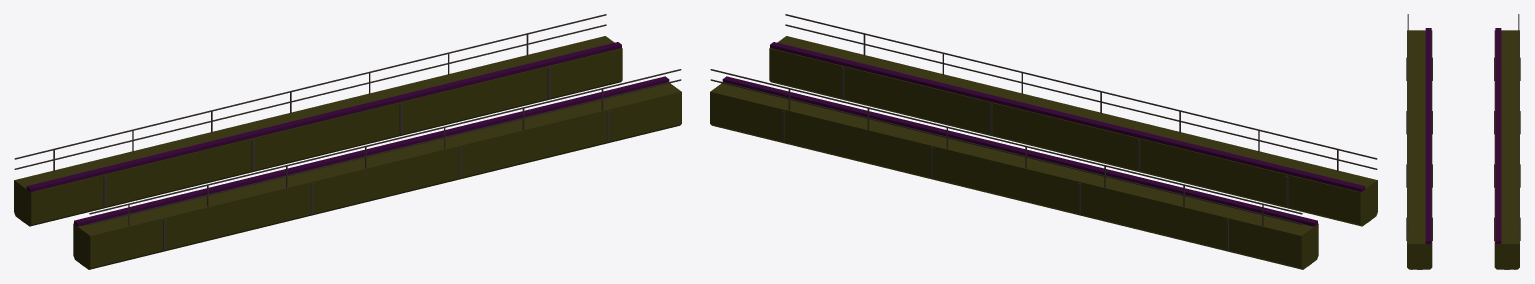
File: monorail_girder.glb
3 renders of one model, left to right at view 1: azimuth 30°, elevation 25°; view 2: azimuth 150°, elevation 25°; view 3: azimuth 270°, elevation 25°, orthographic. The views are drawn at different scales.
Visible parts, largest first — view 1: monorail_girder; view 2: monorail_girder; view 3: monorail_girder.
Part boxes in pixels (<box>): monorail_girder: <box>14,14,681,269</box>; monorail_girder: <box>710,14,1377,269</box>; monorail_girder: <box>1406,14,1520,269</box>.
Size of the model in its own units: 29.98 by 2.84 by 6.79.
